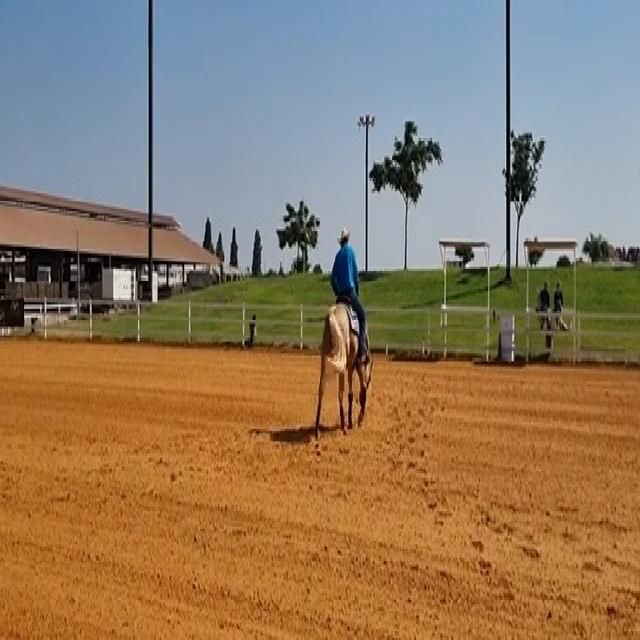horse: (313, 296, 373, 438)
